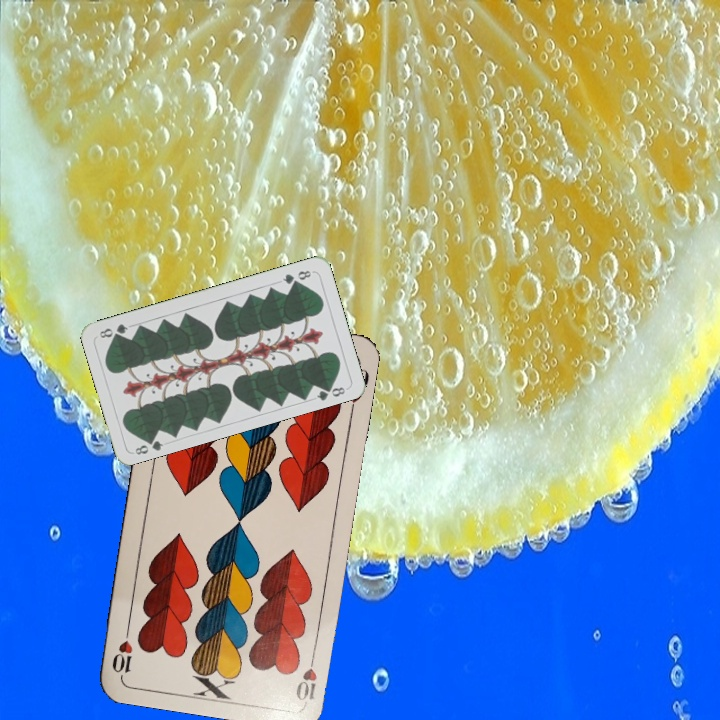G8: (131, 433, 166, 458), (278, 266, 314, 287)
H10: (291, 646, 320, 706)
